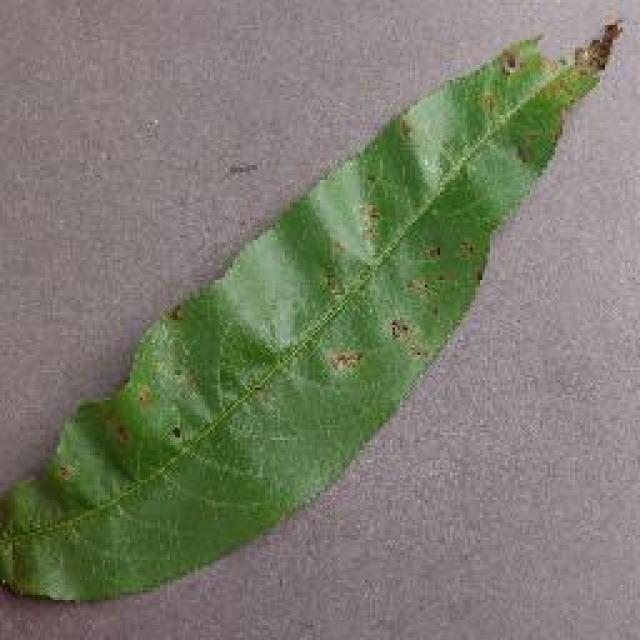Peach_Bacterial_Spot: (302, 248, 500, 417)
